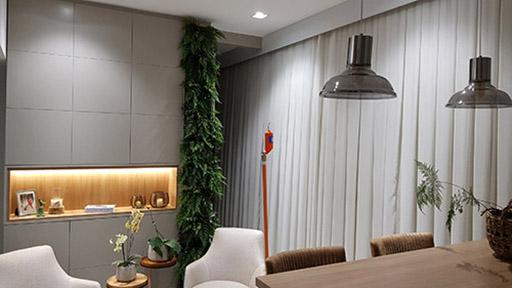Detector_Tensao_Contato: (263, 121, 275, 156)
Vara_Manobra: (259, 153, 270, 261)
